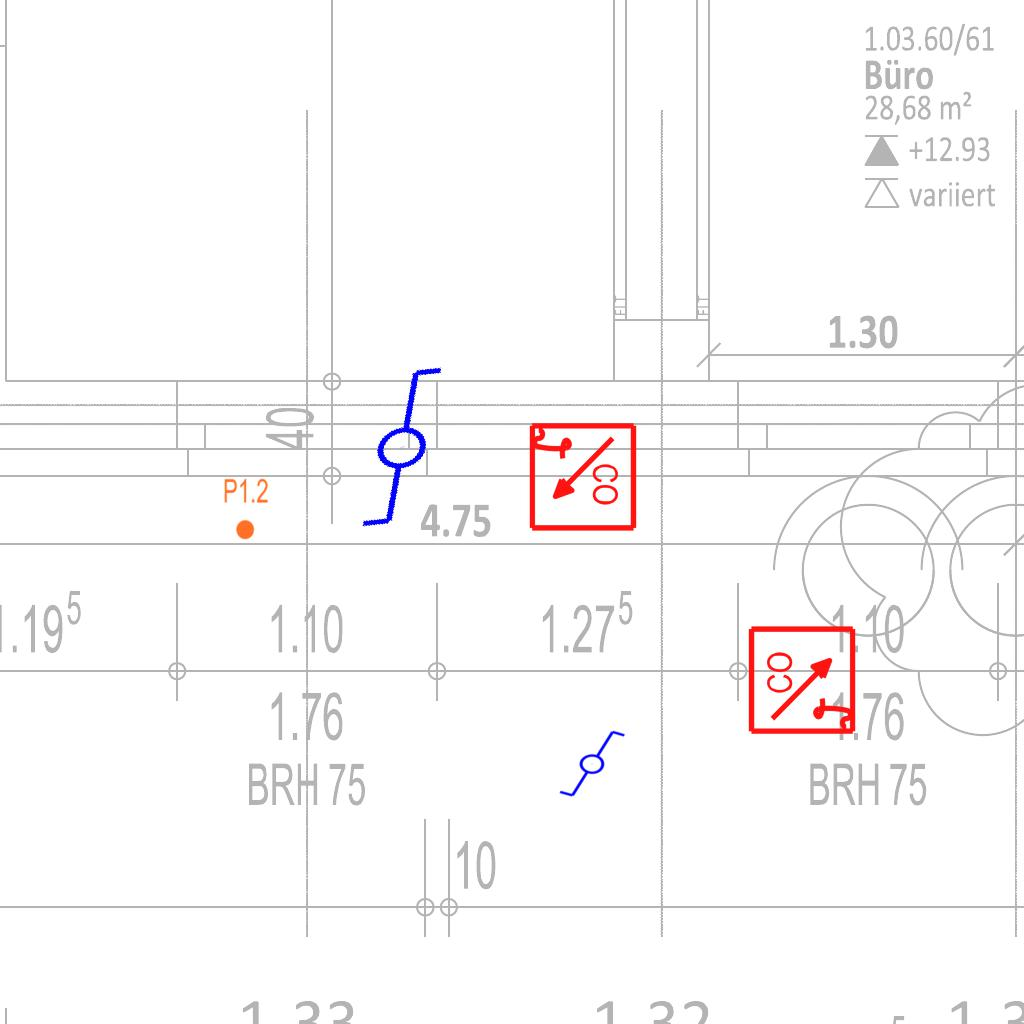Downlight_LED_Einbauleuchten_Flur: (223, 477, 269, 541)
ROA_Rauchmelder_optisch_mit_Signalgeber_(Sockelsirene): (747, 623, 860, 736), (525, 421, 638, 534)
Wechselschalter: (293, 352, 494, 546), (549, 727, 627, 799)
